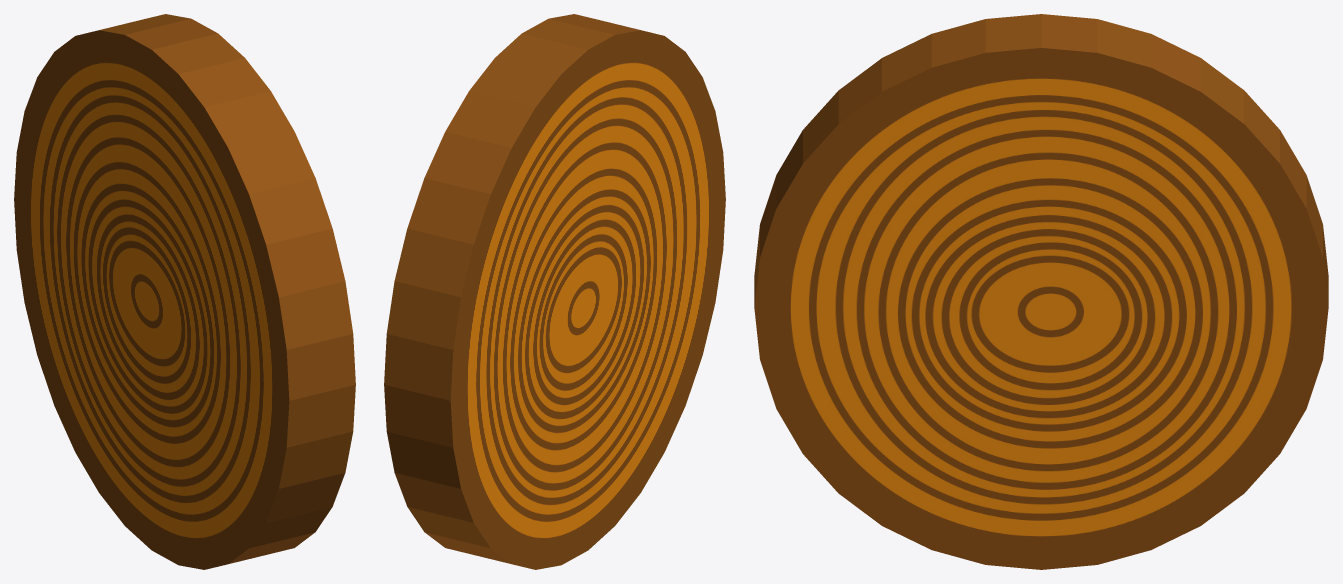
File: FixedLog.fbx
The picture shows the model from 3 angles, left to right: view 1: azimuth 30°, elevation 25°; view 2: azimuth 150°, elevation 25°; view 3: azimuth 270°, elevation 25°; orthographic projection. The views are drawn at different scales.
Visible parts, largest first — view 1: Cylinder; view 2: Cylinder; view 3: Cylinder.
Part boxes in pixels (<box>): Cylinder: <box>14,14,355,569</box>; Cylinder: <box>384,14,725,569</box>; Cylinder: <box>754,14,1328,569</box>.
Bounding box in the file's own units: 27.83 × 200 × 199.
